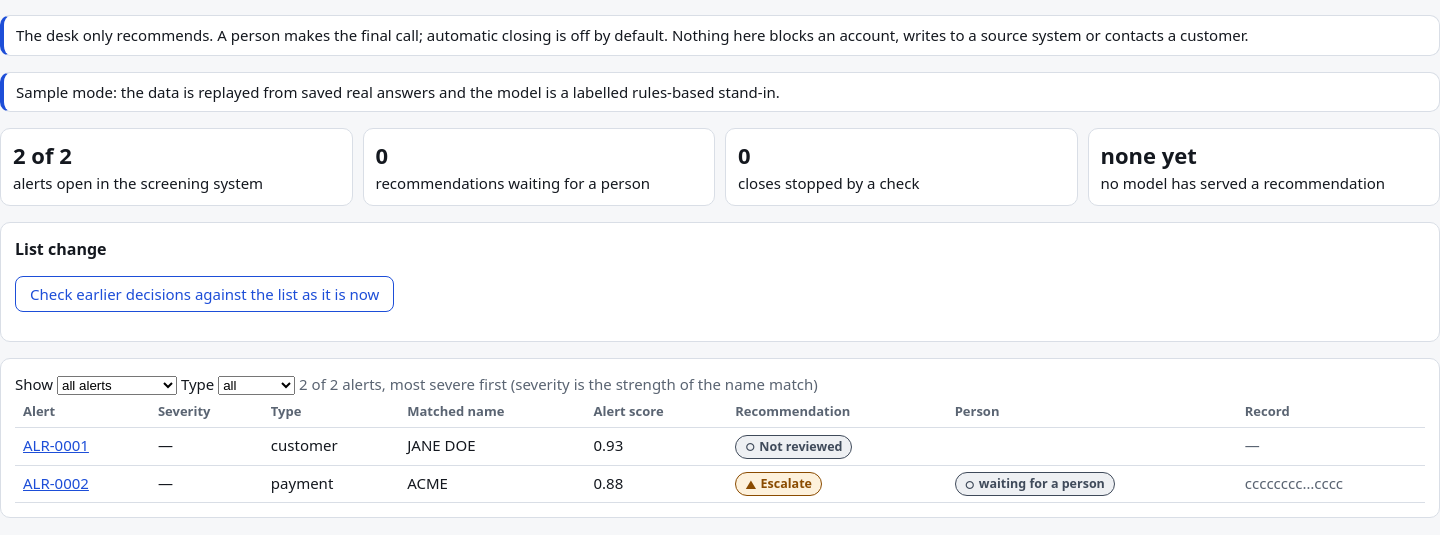
it: Queue › lists alerts with their recommendation and filters them
This screenshot has width=1440, height=535.
Expected: the link "ALR-0001" is shown, [23, 435, 89, 455]
Expected: the text "Sample mode" is shown, [16, 82, 780, 102]
Select "reviewed" in the dropdown labelled "Show": (117, 386) [57, 376, 177, 395]
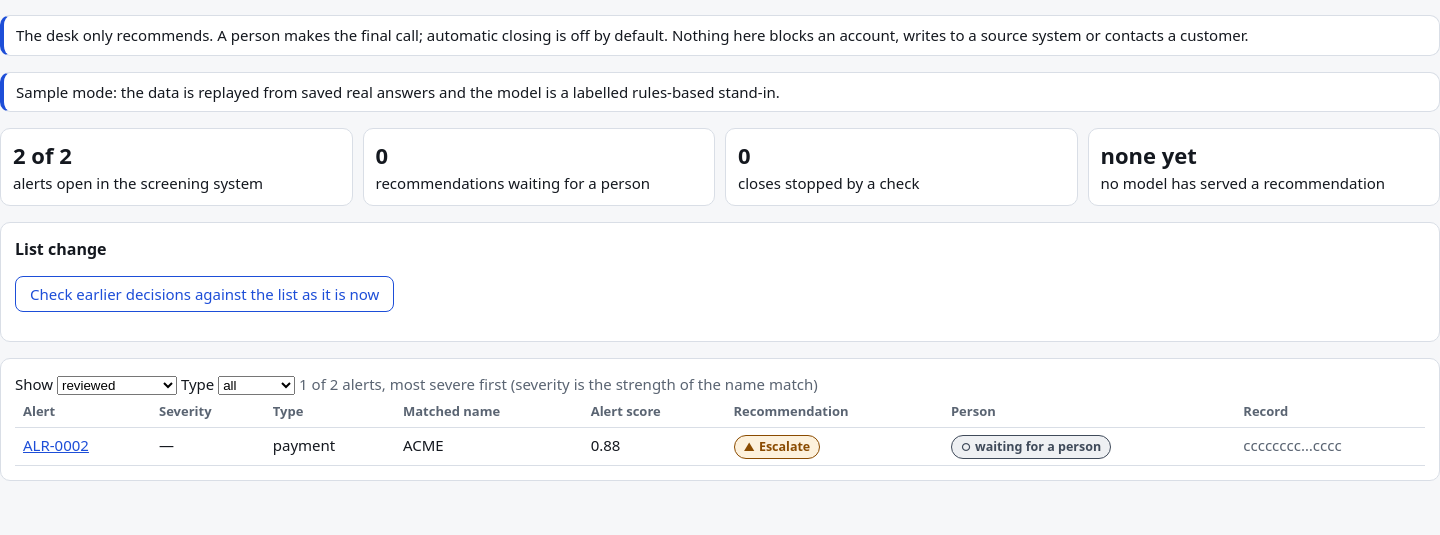
Now the link "ALR-0001" is gone
Select "not yet reviewed" in the dropdown labelled "Show": (117, 386) [57, 376, 177, 395]
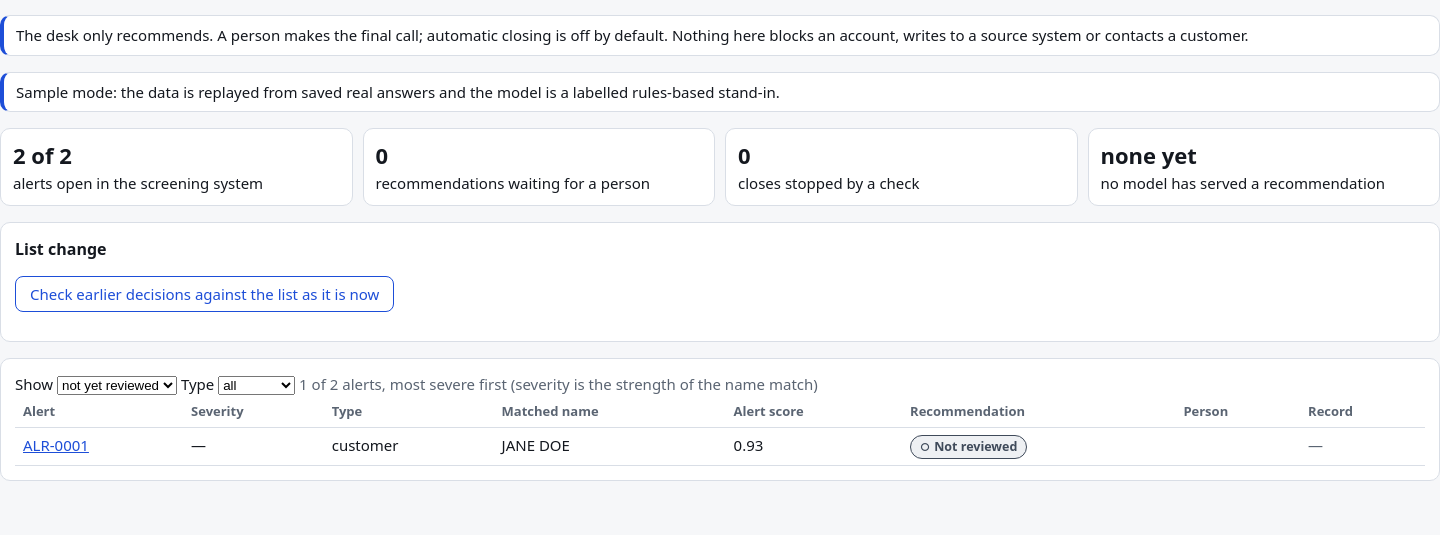
Now the link "ALR-0002" is gone
Select "all alerts" in the dropdown labelled "Show": (117, 386) [57, 376, 177, 395]
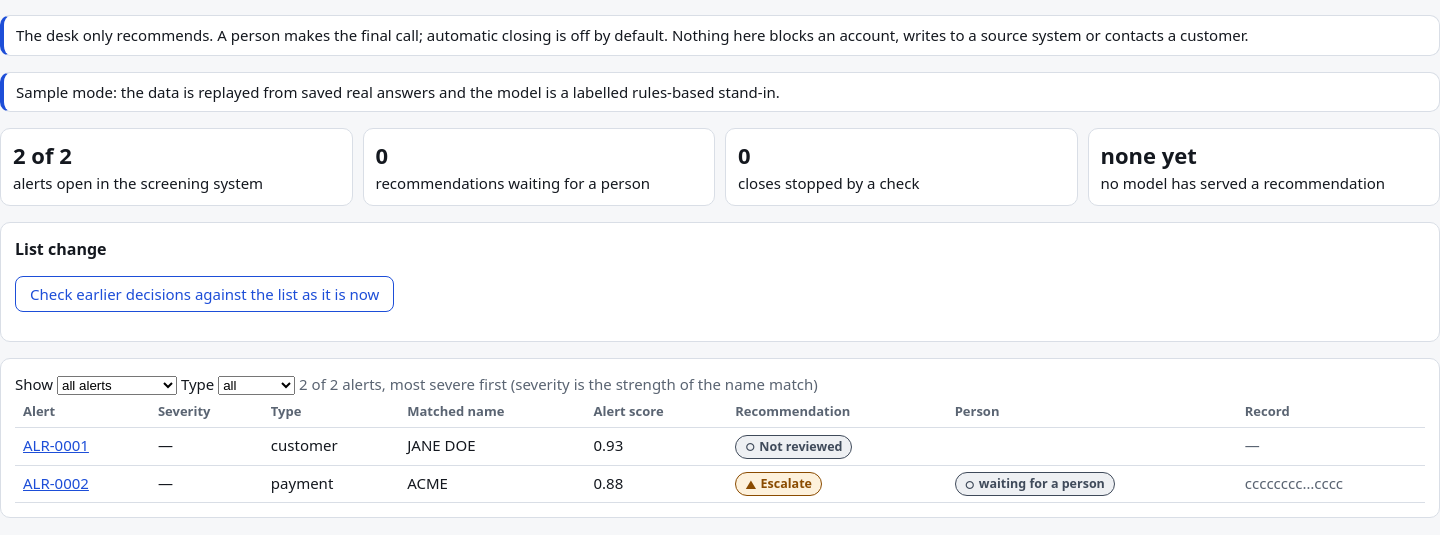
Select "payment" in the dropdown labelled "Type": (257, 386) [218, 376, 295, 395]
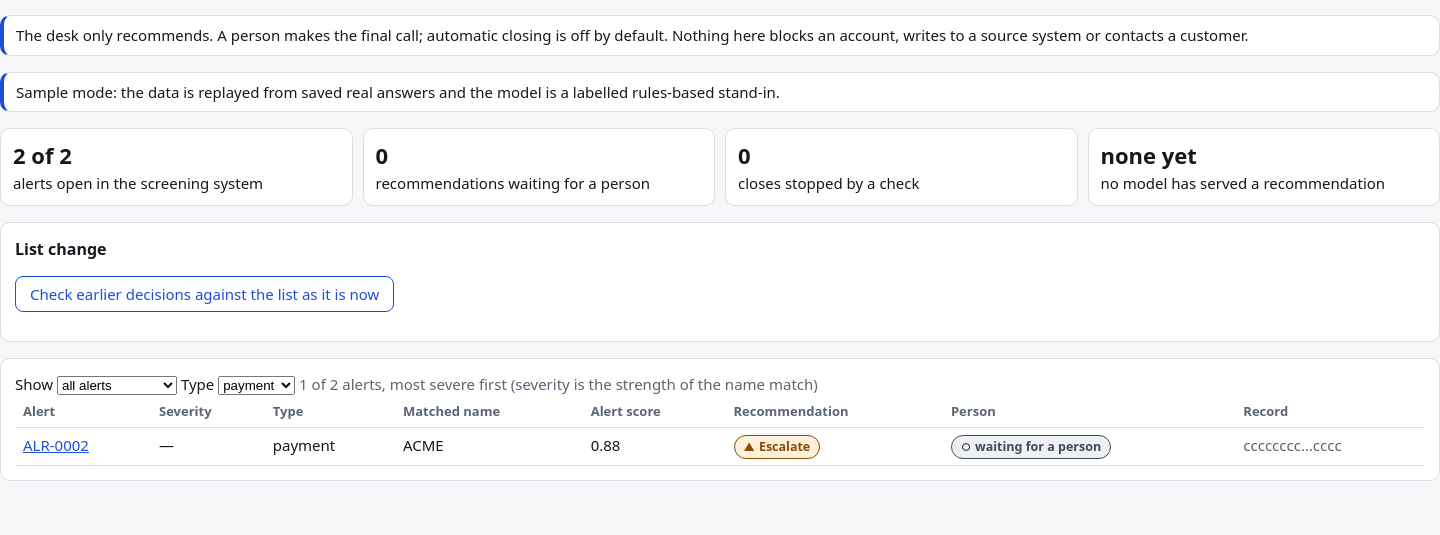
Now the text "1 of 2 alerts, most severe first" is shown, box [299, 374, 818, 394]
